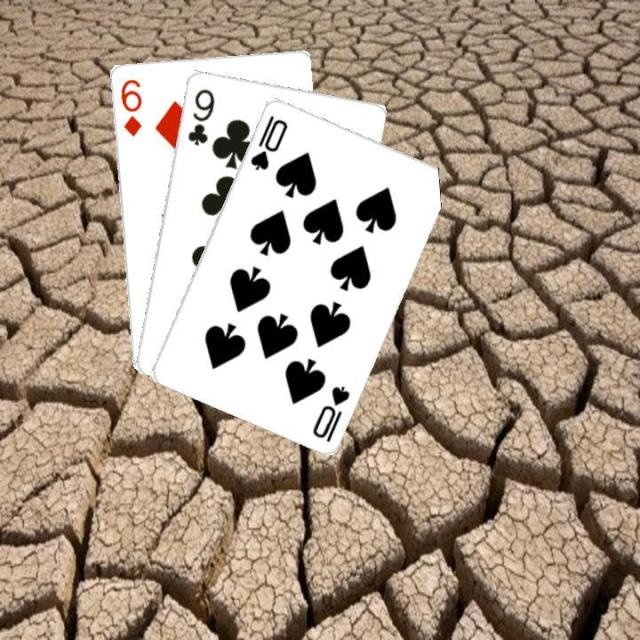10S: (308, 381, 352, 444), (246, 110, 290, 172)
6D: (117, 74, 143, 138)
9C: (183, 84, 216, 148)
